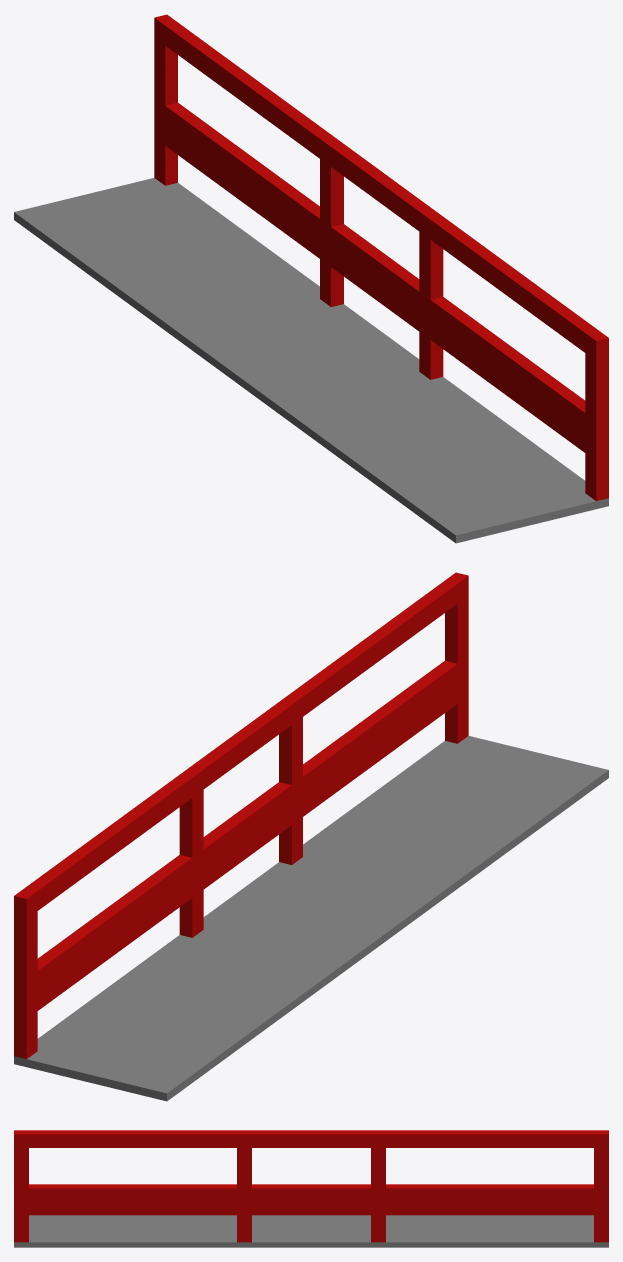
The model's file is HallwayAndFence.fbx.
The picture shows the model from 3 angles, top to bottom: view 1: azimuth 30°, elevation 25°; view 2: azimuth 150°, elevation 25°; view 3: azimuth 270°, elevation 25°; orthographic projection. The views are drawn at different scales.
Parts seen in each view (by area): view 1: Hallay, Fence; view 2: Hallay, Fence; view 3: Fence, Hallay.
Boxes of the visible parts, x1,y1,x2,y2 form: Hallay: [14, 178, 608, 543]; Fence: [154, 14, 608, 501]; Hallay: [14, 736, 608, 1101]; Fence: [14, 572, 468, 1059]; Fence: [14, 1130, 608, 1242]; Hallay: [14, 1215, 608, 1247].
Bounding box in the file's own units: 200 × 210 × 1000.
